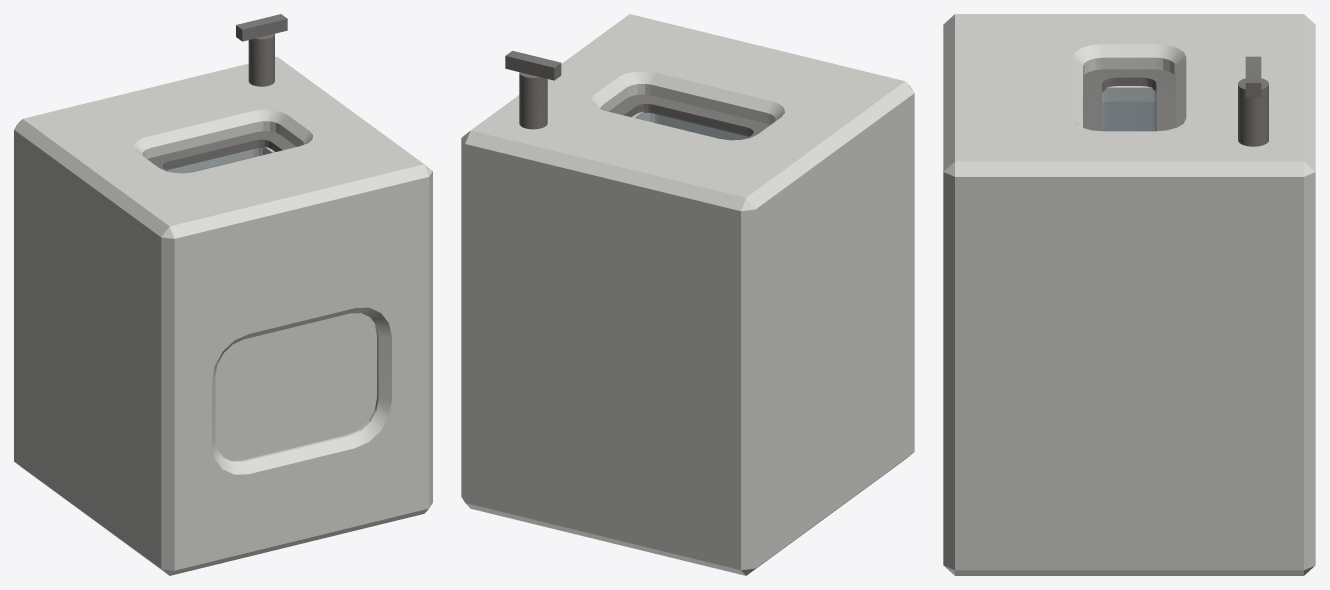
Rendered from ax_util_19_weather_station.glb.
3 views of the same model, side by side, from view 1: azimuth 30°, elevation 25°; view 2: azimuth 150°, elevation 25°; view 3: azimuth 270°, elevation 25° (orthographic). The views are drawn at different scales.
Visible parts, largest first — view 1: housing, sensor_window_frame, boom_stub, sensor_window; view 2: housing, sensor_window_frame, boom_stub, sensor_window; view 3: housing, sensor_window_frame, boom_stub, sensor_window.
Boxes of the visible parts, x1,y1,x2,y2 form: housing: (14, 56, 432, 575); sensor_window_frame: (147, 131, 296, 171); boom_stub: (236, 14, 287, 86); sensor_window: (166, 147, 273, 172); housing: (461, 14, 914, 575); sensor_window_frame: (609, 94, 769, 138); boom_stub: (505, 50, 561, 129); sensor_window: (635, 112, 749, 139); housing: (943, 14, 1315, 575); sensor_window_frame: (1083, 69, 1175, 131); boom_stub: (1238, 56, 1268, 146); sensor_window: (1102, 88, 1156, 131).
Size of the model in its own units: 0.48 by 0.69 by 0.48.
Materials: 3 (1 with a texture image).
